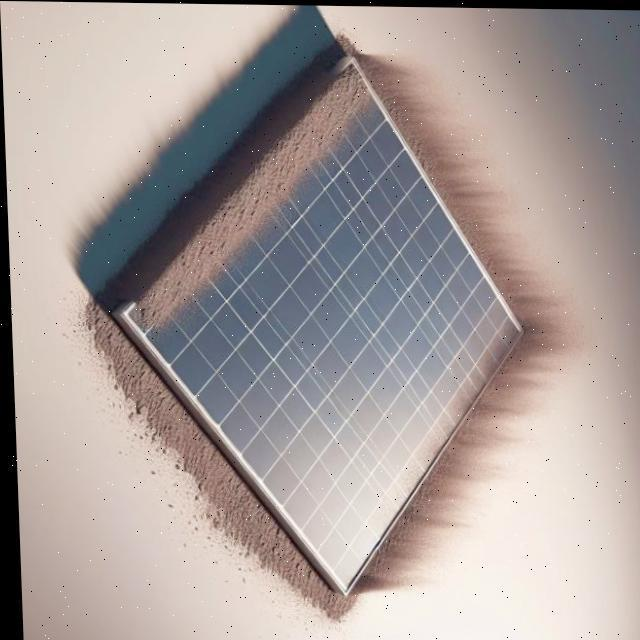Anomaly Solar Panel: (85, 58, 612, 590)
Surface Contaminant: (122, 59, 393, 354)
